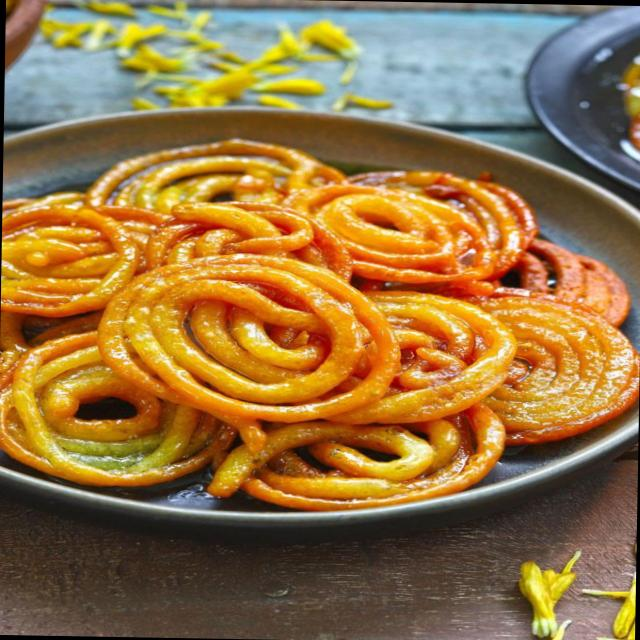jalebi: (0, 136, 640, 509)
